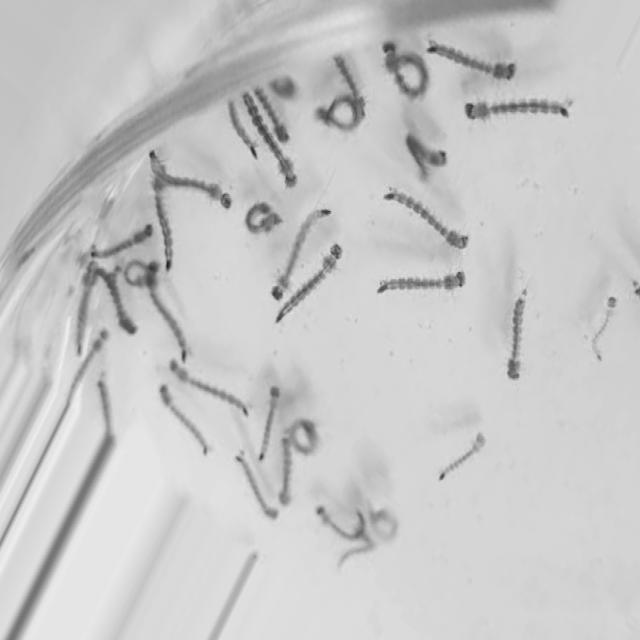larvas: (270, 197, 333, 303), (242, 87, 300, 191), (386, 183, 470, 254), (275, 239, 343, 325), (149, 155, 235, 217), (168, 360, 249, 422), (145, 258, 189, 360), (158, 385, 211, 460), (93, 259, 138, 341), (429, 38, 515, 80), (233, 453, 279, 525), (465, 95, 571, 121), (91, 221, 154, 262), (384, 42, 428, 100), (222, 95, 260, 160), (334, 53, 370, 121), (377, 271, 465, 298), (254, 85, 290, 146), (440, 433, 484, 482), (152, 183, 175, 273), (508, 291, 529, 380), (76, 324, 108, 376), (73, 274, 94, 353), (408, 134, 443, 179), (258, 389, 280, 459), (316, 507, 364, 539), (593, 298, 617, 359), (321, 95, 358, 133), (247, 200, 279, 238), (288, 419, 315, 456), (339, 535, 372, 563), (99, 376, 111, 436), (125, 259, 150, 285), (280, 434, 289, 506), (271, 75, 295, 100), (371, 510, 395, 534)
